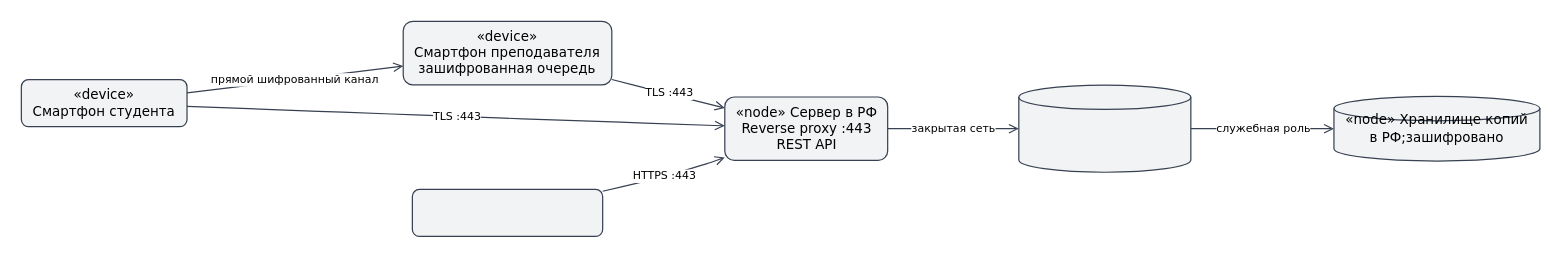
Some shapes in this 1562 by 259 pixel diagram are drawn without their labels. Each missing label, with the centre of its shape:
«device» ПК сотрудника/браузер: point (507, 212)
«node» БД PostgreSQL :5432 зашифрованный том: point (1104, 128)
